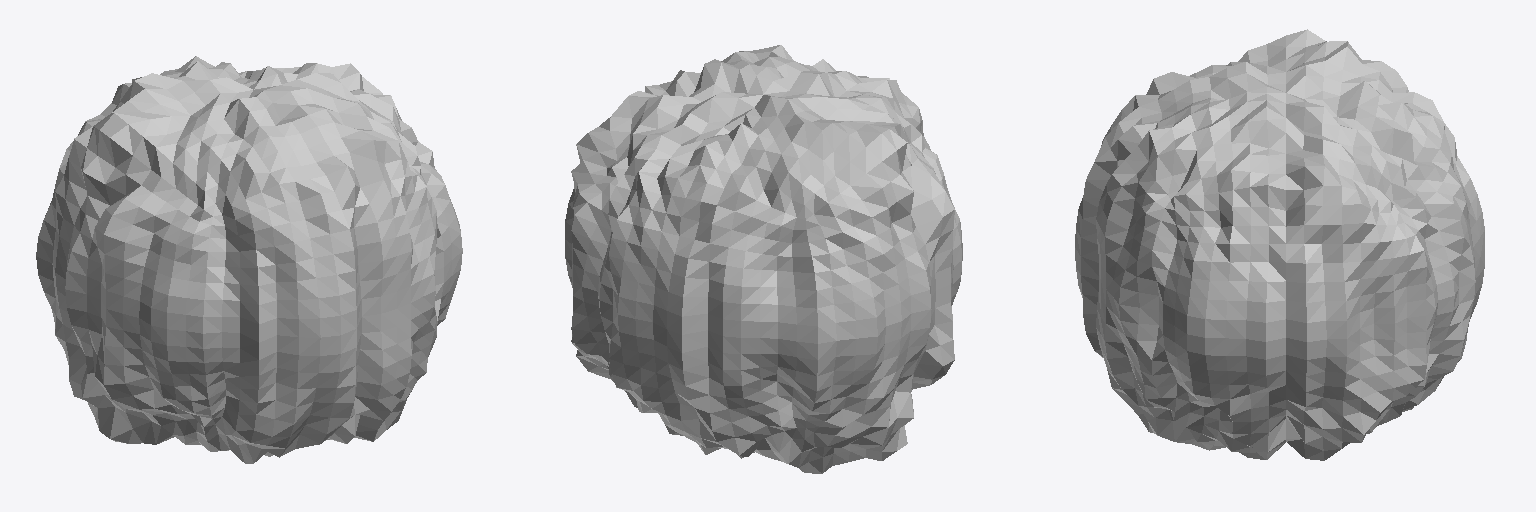
File: asteroid120.obj
3 views of the same model, side by side, from view 1: azimuth 30°, elevation 25°; view 2: azimuth 150°, elevation 25°; view 3: azimuth 270°, elevation 25° (orthographic).
Parts seen in each view (by area): view 1: Cube_Cube.002; view 2: Cube_Cube.002; view 3: Cube_Cube.002.
Boxes of the visible parts, box(x1,y1,x2,y2) form: Cube_Cube.002: box(36, 56, 462, 463); Cube_Cube.002: box(565, 45, 962, 473); Cube_Cube.002: box(1075, 29, 1484, 460).
Bounding box in the file's own units: 1.77 × 1.7 × 1.77.